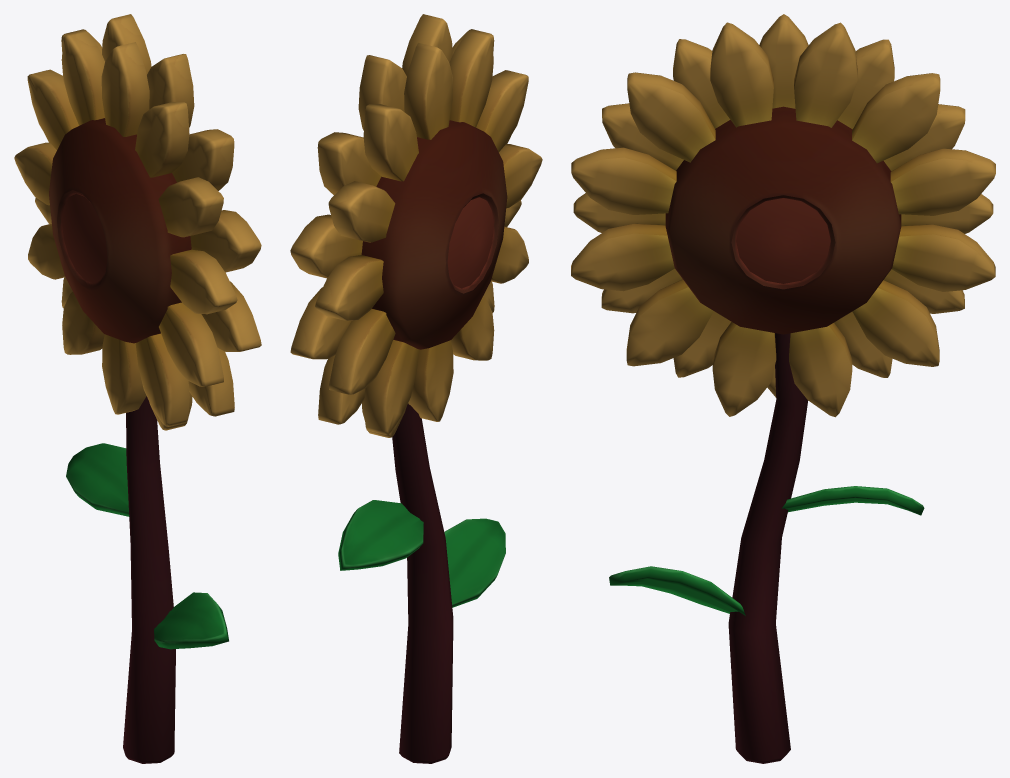
Rendered from Thanksgiving_sunflower.fbx.
3 renders of one model, left to right at view 1: azimuth 30°, elevation 25°; view 2: azimuth 150°, elevation 25°; view 3: azimuth 270°, elevation 25°, orthographic. The views are drawn at different scales.
Parts seen in each view (by area): view 1: Thanksgiving_sunflower; view 2: Thanksgiving_sunflower; view 3: Thanksgiving_sunflower.
Part boxes in pixels (x1,y1,x2,y2): Thanksgiving_sunflower: (14,14,261,763); Thanksgiving_sunflower: (290,14,542,763); Thanksgiving_sunflower: (571,14,995,763).
Size of the model in its own units: 45.49 by 249 by 131.
